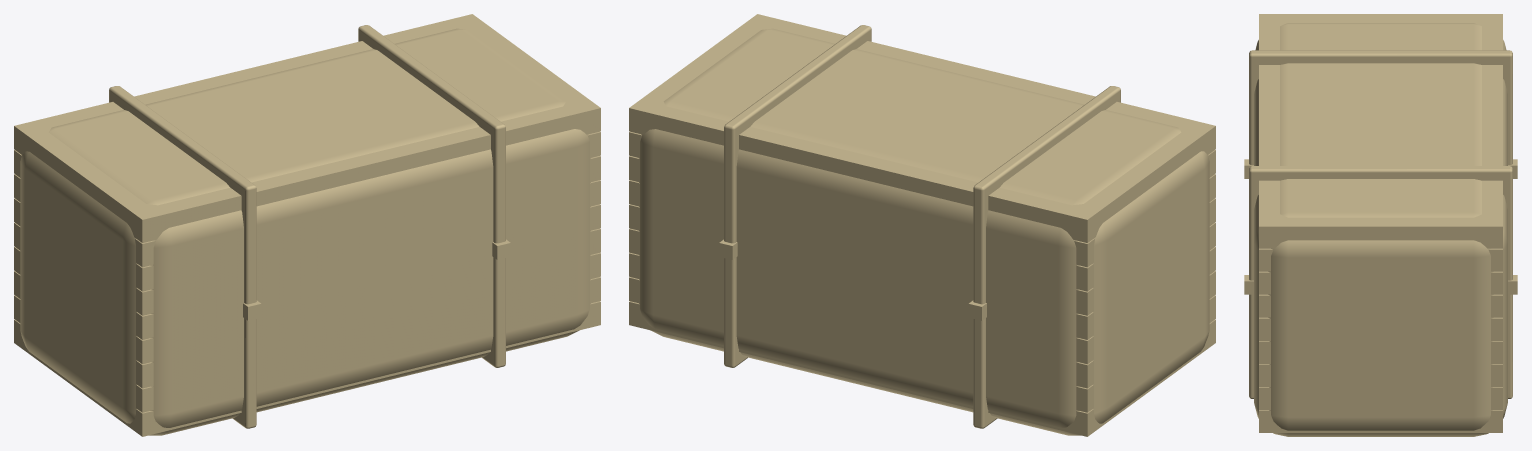
Rendered from hay.glb.
3 renders of one model, left to right at view 1: azimuth 30°, elevation 25°; view 2: azimuth 150°, elevation 25°; view 3: azimuth 270°, elevation 25°, orthographic. The views are drawn at different scales.
Parts seen in each view (by area): view 1: hay-bale; view 2: hay-bale; view 3: hay-bale.
Boxes of the visible parts, bbox=[...] form: hay-bale: bbox=[14, 14, 600, 436]; hay-bale: bbox=[629, 14, 1215, 436]; hay-bale: bbox=[1244, 14, 1517, 436].
Bounding box in the file's own units: 1.05 × 0.5199 × 0.5601.
